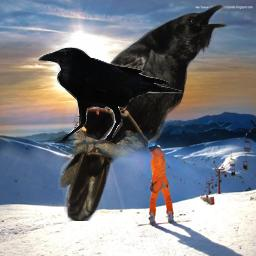Crow: (57, 0, 231, 221), (37, 47, 183, 144)
